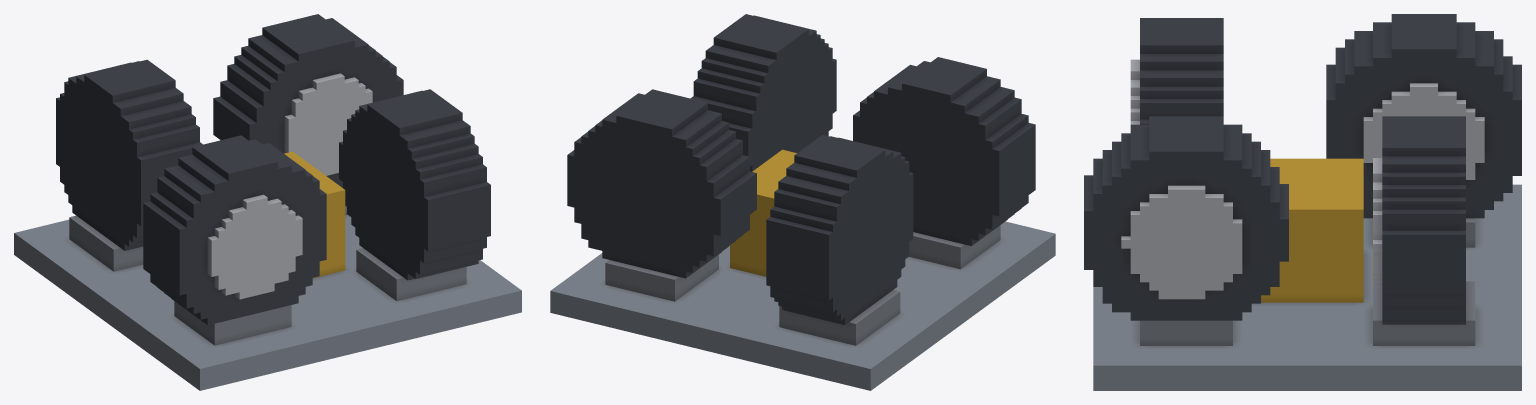
Rendered from reaction_wheels_l.glb.
The picture shows the model from 3 angles, left to right: view 1: azimuth 30°, elevation 25°; view 2: azimuth 150°, elevation 25°; view 3: azimuth 270°, elevation 25°; orthographic projection. The views are drawn at different scales.
Parts seen in each view (by area): view 1: reaction_wheels_l; view 2: reaction_wheels_l; view 3: reaction_wheels_l.
Part boxes in pixels (x1=…): reaction_wheels_l: x1=14, y1=14, x2=521, y2=390; reaction_wheels_l: x1=550, y1=14, x2=1055, y2=390; reaction_wheels_l: x1=1084, y1=14, x2=1521, y2=390.
Bounding box in the file's own units: 0.7344 × 0.4062 × 0.7344.
